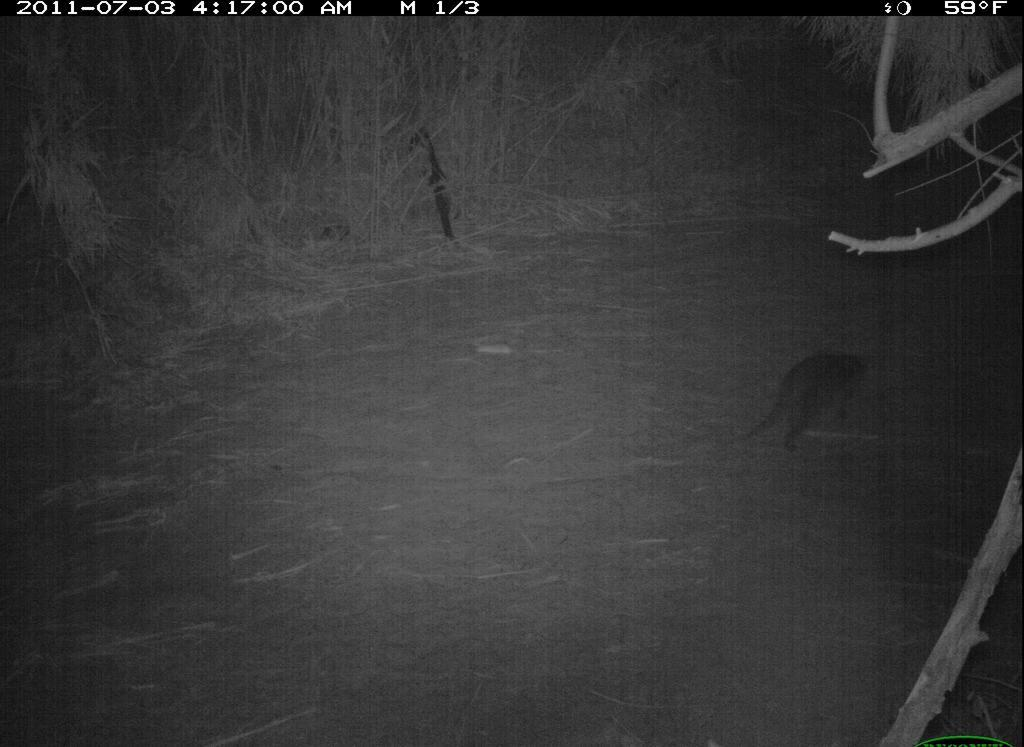raccoon: (717, 341, 879, 459)
